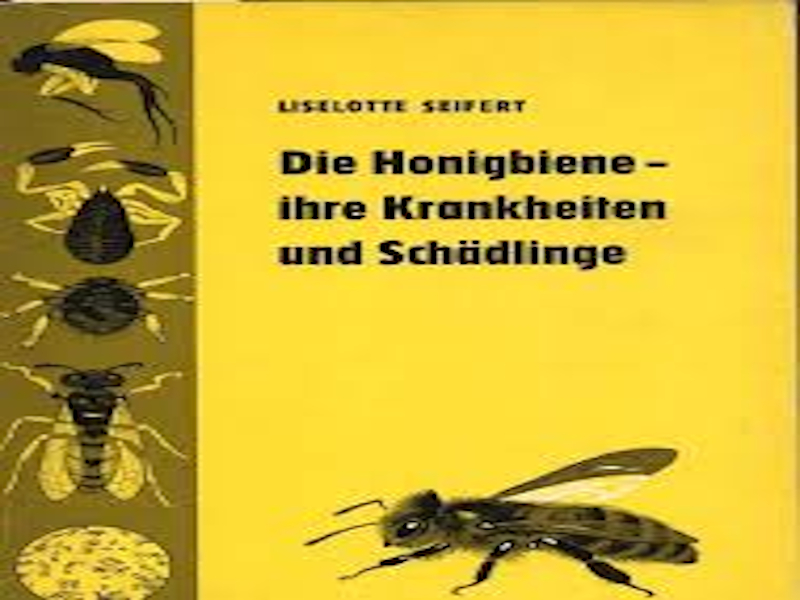abeja: (288, 437, 714, 597)
